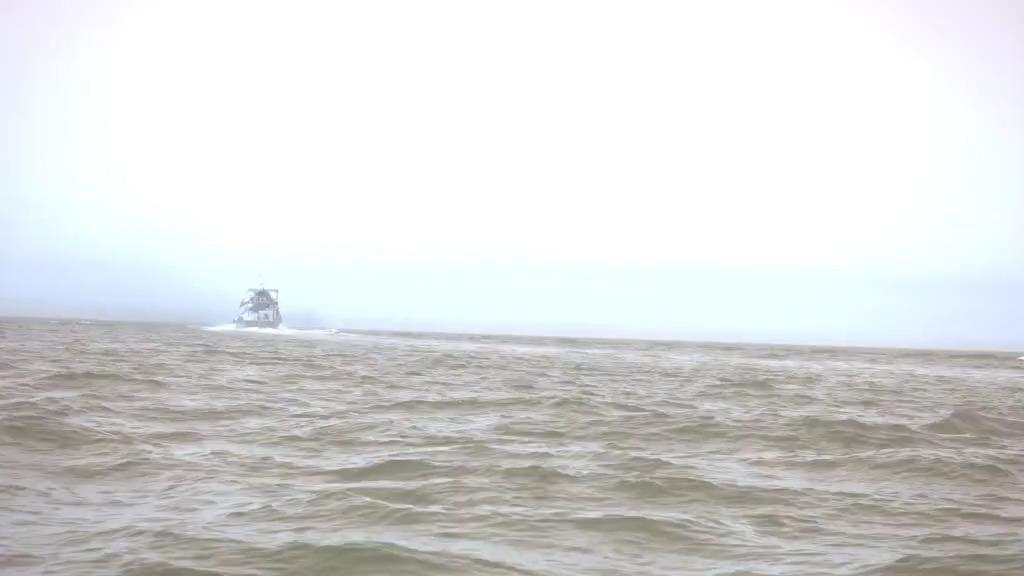PassengerShip: (230, 279, 288, 331)
